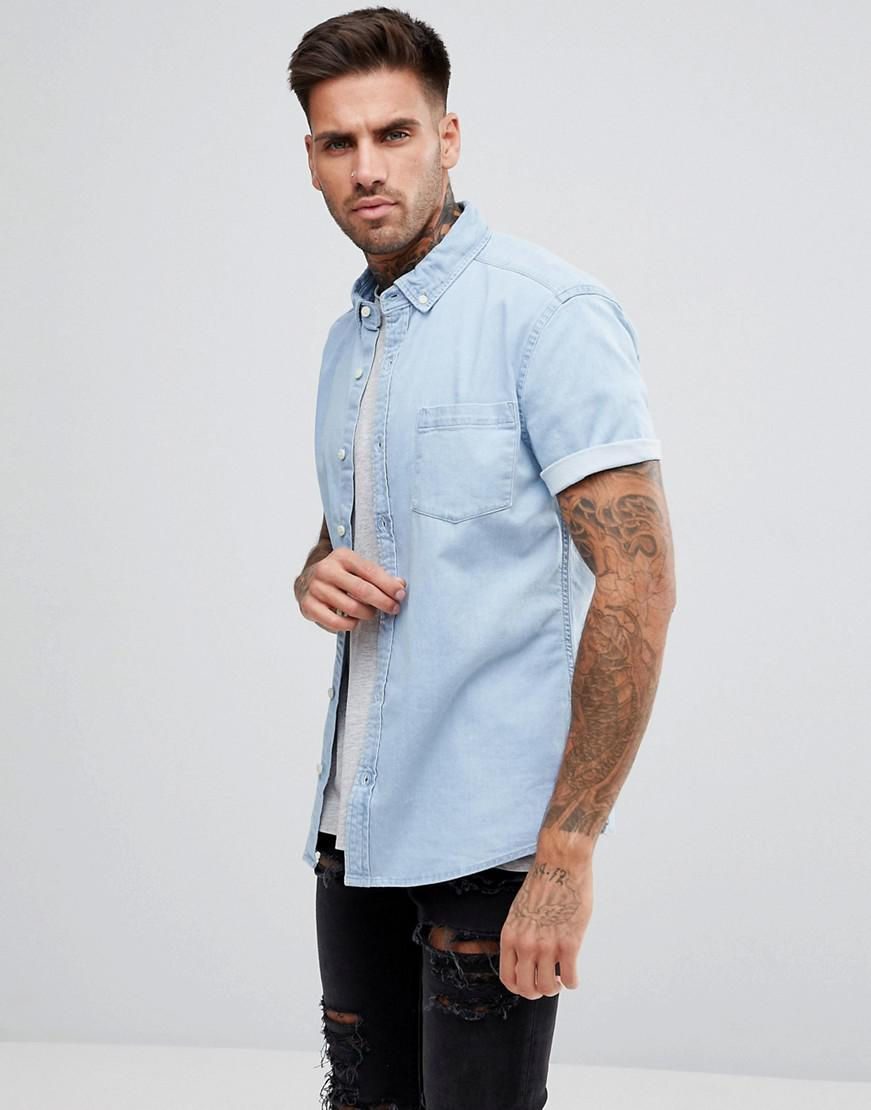teeshirt: (268, 259, 656, 868)
